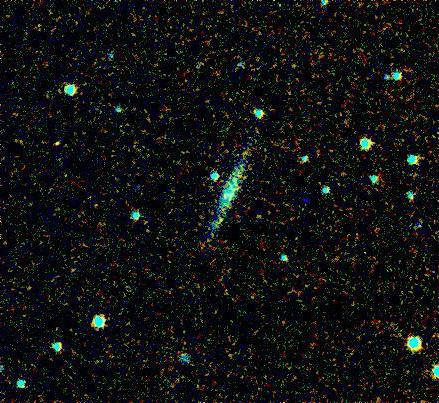star: (41, 128, 71, 158)
